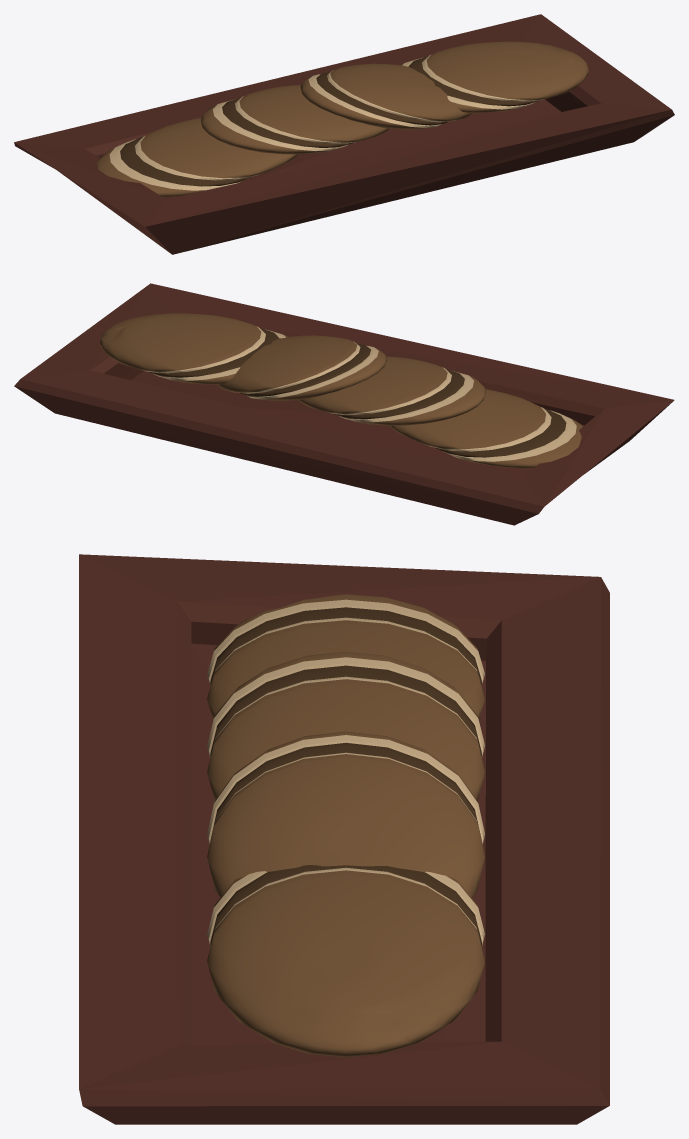
Rendered from Buns_fbx.fbx.
3 renders of one model, top to bottom at view 1: azimuth 30°, elevation 25°; view 2: azimuth 150°, elevation 25°; view 3: azimuth 270°, elevation 25°, orthographic. The views are drawn at different scales.
Visible parts, largest first — view 1: bun_plate, bun1Shape, bun1Shape3, bun1Shape2, bun1Shape1; view 2: bun_plate, bun1Shape, bun1Shape3, bun1Shape2, bun1Shape1; view 3: bun_plate, bun1Shape, bun1Shape1, bun1Shape2, bun1Shape3.
Boxes of the visible parts, box(x1,y1,x2,y2) form: bun_plate: box(14, 14, 674, 254); bun1Shape: box(400, 41, 588, 113); bun1Shape3: box(97, 118, 298, 197); bun1Shape2: box(201, 85, 389, 154); bun1Shape1: box(300, 63, 471, 129); bun_plate: box(14, 283, 674, 525); bun1Shape: box(100, 313, 287, 384); bun1Shape3: box(388, 389, 582, 468); bun1Shape2: box(298, 356, 485, 425); bun1Shape1: box(216, 335, 386, 400); bun_plate: box(79, 554, 609, 1124); bun1Shape: box(207, 865, 484, 1057); bun1Shape1: box(207, 731, 484, 897); bun1Shape2: box(207, 651, 484, 801); bun1Shape3: box(207, 594, 484, 719).
Size of the model in its own units: 11.93 by 1.67 by 5.19.
